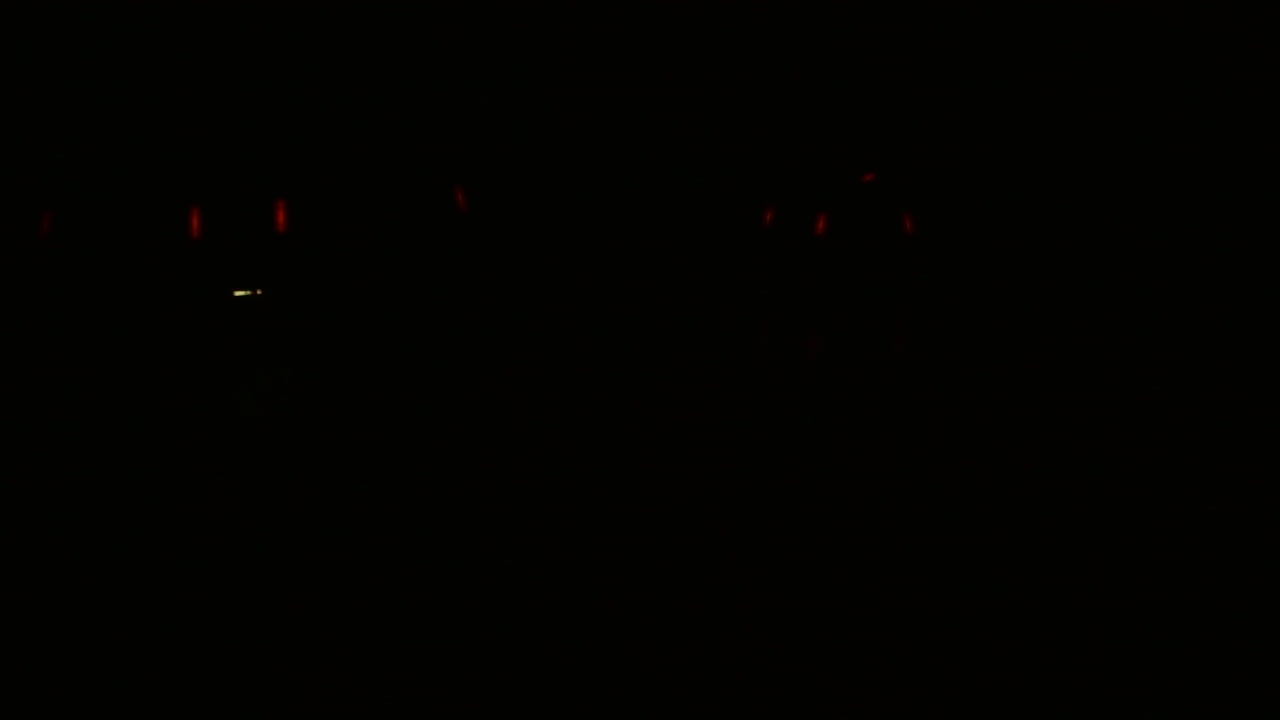pair1: (178, 195, 300, 250), (759, 208, 832, 237)
